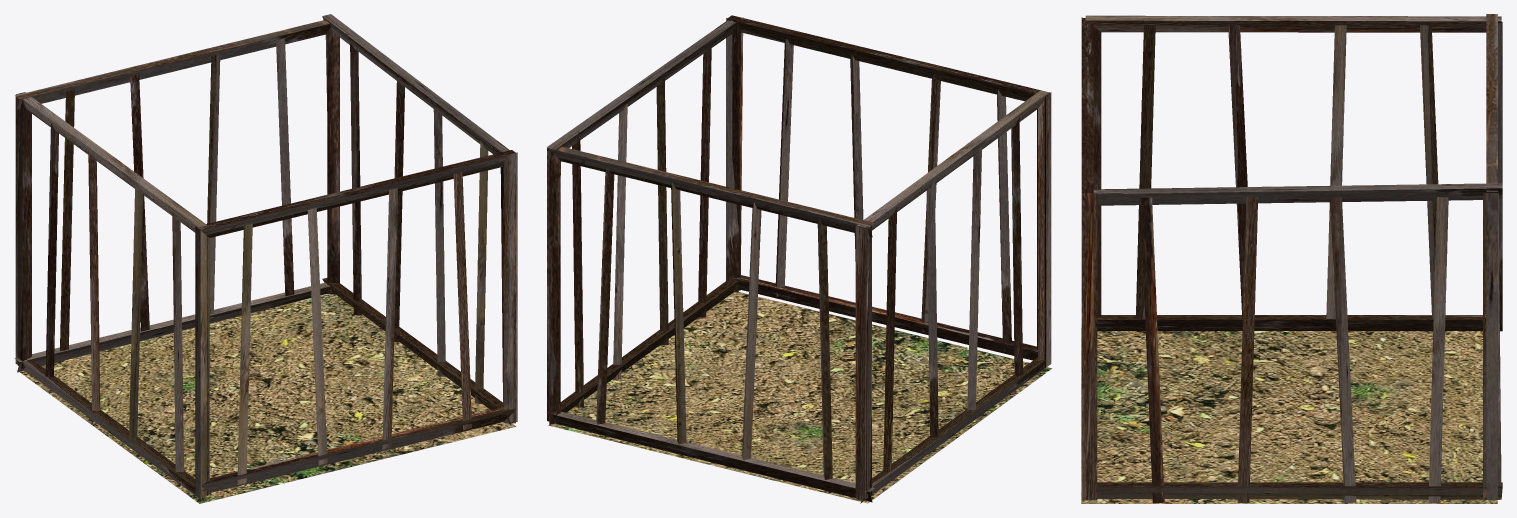
File: building_wardog_cage.glb
3 renders of one model, left to right at view 1: azimuth 30°, elevation 25°; view 2: azimuth 150°, elevation 25°; view 3: azimuth 270°, elevation 25°, orthographic. The views are drawn at different scales.
Parts seen in each view (by area): view 1: building_wardog_cage; view 2: building_wardog_cage; view 3: building_wardog_cage.
Boxes of the visible parts, x1,y1,x2,y2 form: building_wardog_cage: (14,14,517,503); building_wardog_cage: (546,15,1051,503); building_wardog_cage: (1081,14,1502,503).
Bounding box in the file's own units: 2.07 × 1.72 × 2.07.
5 materials, 5 textured.
